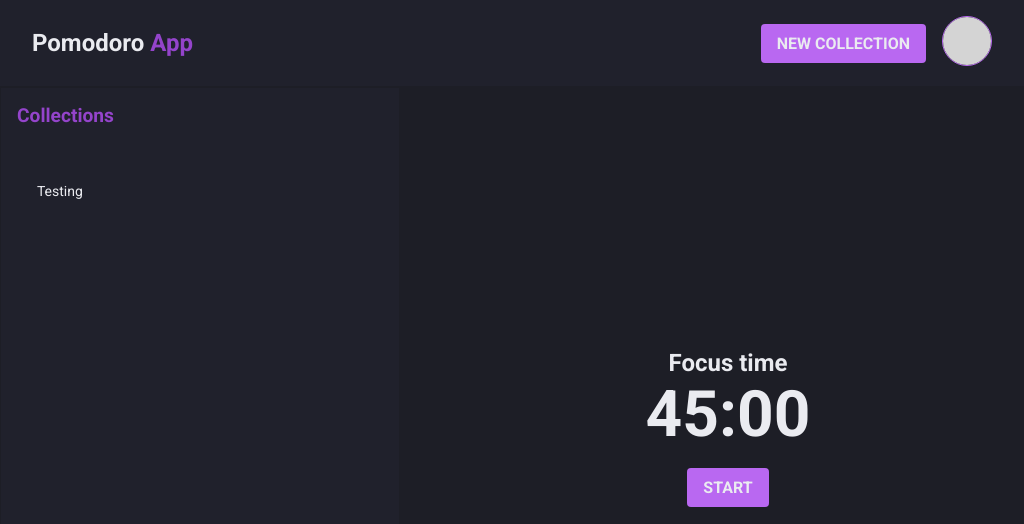
Test case: Home › Should add a new TODO into selected collection by pressing add button
Click the button "Testing" at point(60, 191), box [21,167,379,215]
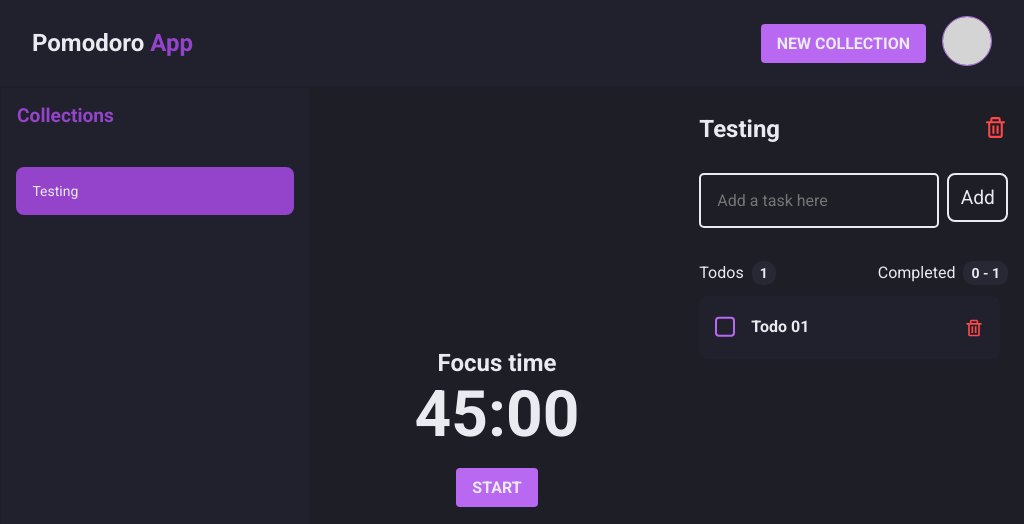
Type "Todo 02" into the field with placeholder "Add a task here" at point(819, 200), box [699,173,939,228]
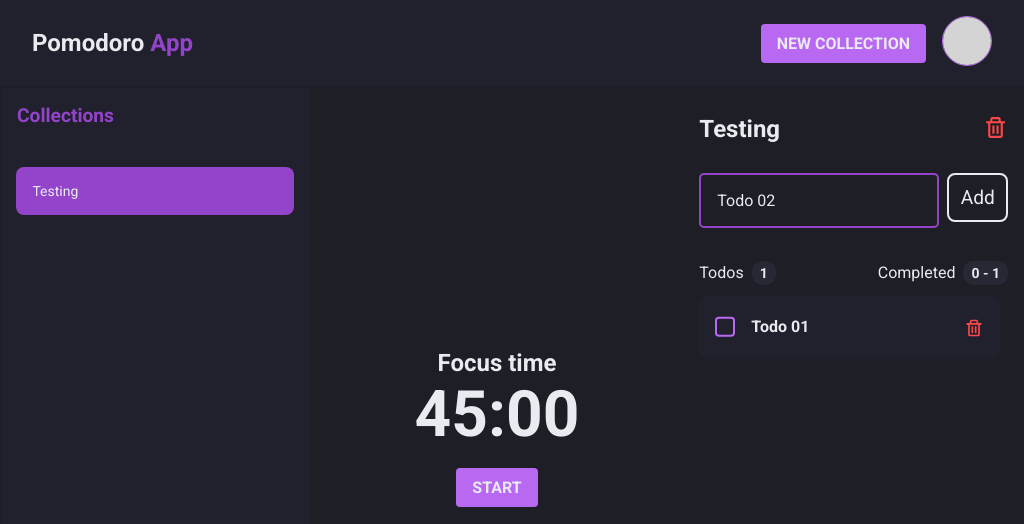
Click the button "Add" at point(978, 198), box [948,173,1008,222]
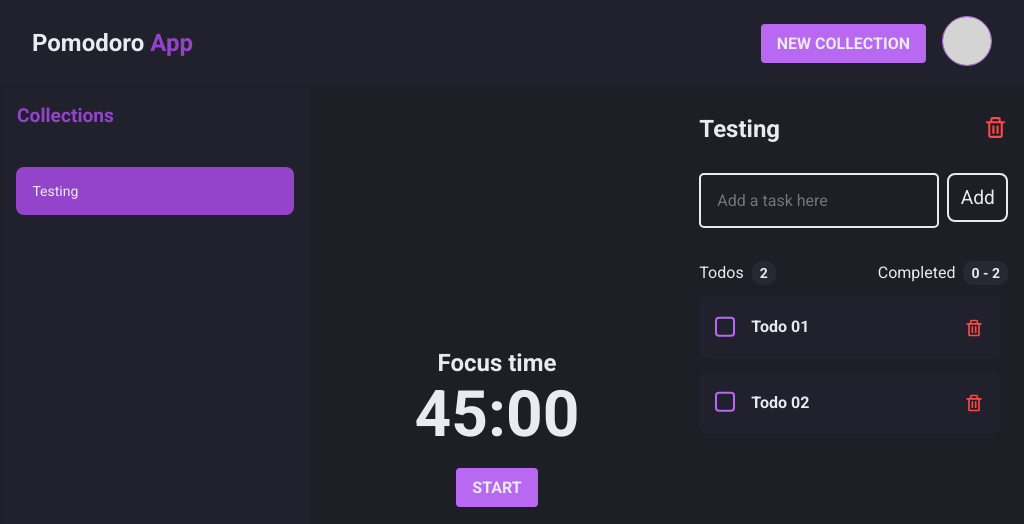
Expected: the text "Todo 02" is shown, [751,393,809,412]
